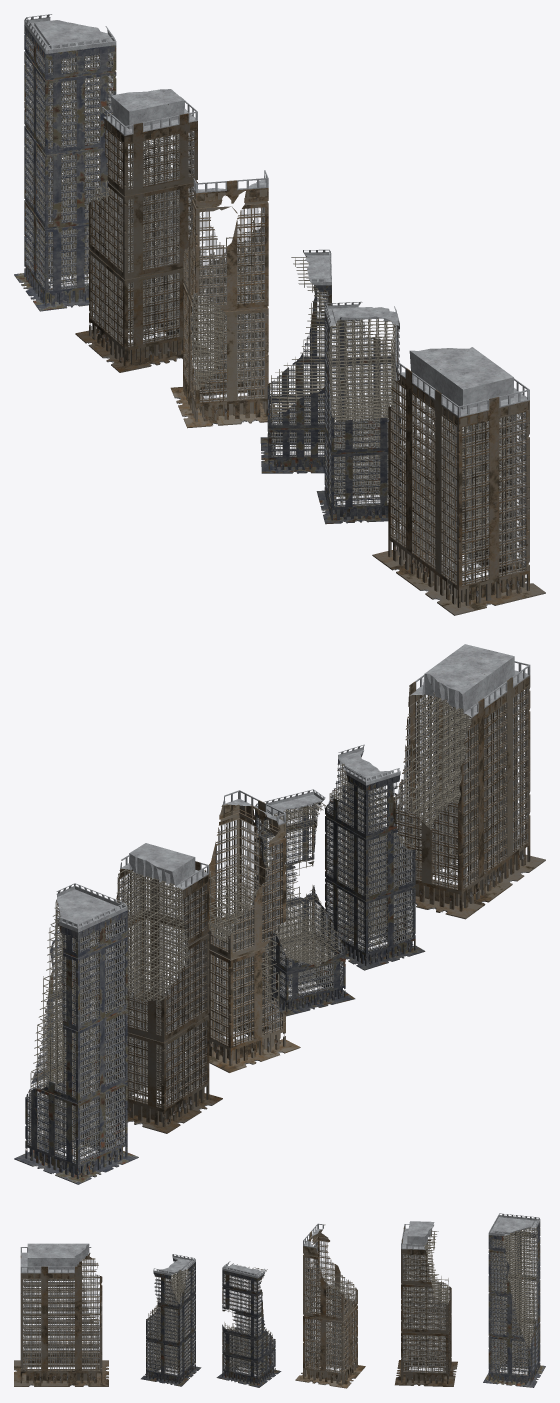
File: post-apocalyptic_buildings.glb
The picture shows the model from 3 angles, top to bottom: view 1: azimuth 30°, elevation 25°; view 2: azimuth 150°, elevation 25°; view 3: azimuth 270°, elevation 25°; orthographic projection. The views are drawn at different scales.
Visible parts, largest first — view 1: Building #1 outer_paint B#1_0 (×2), Building #5 outer_paint B#5_0 (×2), Building #6 outer_paint B#6_0 (×2), Building #4 outer_paint B#4_0 (×2), Building #1 outer_Metal_0 (×2), Building #5 outer_Metal_0 (×2), Building #2 inner_Metal inner_0, Building #2 outer_paint B#2_0 (×2), Building #6 outer_Metal_0 (×2), Building #4 inner_Metal inner_0, Building #6 inner_Metal inner_0, Building #3 outer_paint B#3_0 (×2) (+11 smaller); view 2: Building #1 outer_paint B#1_0 (×2), Building #6 outer_paint B#6_0 (×2), Building #5 outer_paint B#5_0 (×2), Building #4 outer_paint B#4_0 (×2), Building #2 outer_paint B#2_0 (×2), Building #1 outer_Metal_0, Building #6 outer_Metal_0 (×2), Building #5 inner_Metal inner_0, Building #6 inner_Metal inner_0, Building #1 inner_Metal inner_0, Building #5 outer_Metal_0 (×2), Building #2 outer_Metal_0 (×2) (+11 smaller); view 3: Building #1 outer_paint B#1_0 (×2), Building #4 outer_paint B#4_0 (×2), Building #5 outer_paint B#5_0 (×2), Building #6 outer_paint B#6_0 (×2), Building #1 outer_Metal_0 (×2), Building #6 inner_Metal inner_0, Building #3 outer_paint B#3_0 (×2), Building #2 outer_paint B#2_0 (×2), Building #5 inner_Metal inner_0, Building #1 inner_Metal inner_0, Building #6 outer_Metal_0 (×2), Building #5 outer_Metal_0 (×2) (+12 smaller).
Part boxes in pixels (x1=…): Building #1 outer_paint B#1_0 (×2): x1=372, y1=368, x2=545, y2=615; Building #5 outer_paint B#5_0 (×2): x1=75, y1=113, x2=206, y2=372; Building #6 outer_paint B#6_0 (×2): x1=14, y1=25, x2=116, y2=311; Building #4 outer_paint B#4_0 (×2): x1=170, y1=180, x2=278, y2=428; Building #1 outer_Metal_0 (×2): x1=391, y1=347, x2=529, y2=585; Building #5 outer_Metal_0 (×2): x1=91, y1=89, x2=197, y2=346; Building #2 inner_Metal inner_0: x1=328, y1=318, x2=395, y2=506; Building #2 outer_paint B#2_0 (×2): x1=316, y1=310, x2=403, y2=524; Building #6 outer_Metal_0 (×2): x1=24, y1=14, x2=116, y2=290; Building #4 inner_Metal inner_0: x1=190, y1=210, x2=262, y2=401; Building #6 inner_Metal inner_0: x1=29, y1=39, x2=111, y2=290; Building #3 outer_paint B#3_0 (×2): x1=260, y1=255, x2=337, y2=473; Building #1 outer_paint B#1_0 (×2): x1=392, y1=675, x2=545, y2=919; Building #6 outer_paint B#6_0 (×2): x1=14, y1=902, x2=138, y2=1184; Building #5 outer_paint B#5_0 (×2): x1=91, y1=859, x2=222, y2=1133; Building #4 outer_paint B#4_0 (×2): x1=184, y1=800, x2=300, y2=1072; Building #2 outer_paint B#2_0 (×2): x1=316, y1=752, x2=425, y2=970; Building #1 outer_Metal_0: x1=395, y1=644, x2=527, y2=889; Building #6 outer_Metal_0 (×2): x1=28, y1=883, x2=127, y2=1163; Building #5 inner_Metal inner_0: x1=107, y1=869, x2=202, y2=1102; Building #6 inner_Metal inner_0: x1=30, y1=900, x2=122, y2=1159; Building #1 inner_Metal inner_0: x1=399, y1=691, x2=522, y2=888; Building #5 outer_Metal_0 (×2): x1=106, y1=843, x2=209, y2=1107; Building #2 outer_Metal_0 (×2): x1=327, y1=744, x2=413, y2=952; Building #1 outer_paint B#1_0 (×2): x1=14, y1=1253, x2=108, y2=1386; Building #4 outer_paint B#4_0 (×2): x1=295, y1=1224, x2=365, y2=1388; Building #5 outer_paint B#5_0 (×2): x1=395, y1=1226, x2=457, y2=1386; Building #6 outer_paint B#6_0 (×2): x1=483, y1=1222, x2=545, y2=1387; Building #1 outer_Metal_0 (×2): x1=20, y1=1243, x2=101, y2=1370; Building #6 inner_Metal inner_0: x1=491, y1=1227, x2=537, y2=1375; Building #3 outer_paint B#3_0 (×2): x1=216, y1=1270, x2=281, y2=1387; Building #2 outer_paint B#2_0 (×2): x1=141, y1=1257, x2=201, y2=1386; Building #5 inner_Metal inner_0: x1=404, y1=1231, x2=448, y2=1372; Building #1 inner_Metal inner_0: x1=24, y1=1259, x2=98, y2=1370; Building #6 outer_Metal_0 (×2): x1=488, y1=1213, x2=540, y2=1375; Building #5 outer_Metal_0 (×2): x1=401, y1=1221, x2=450, y2=1372.
Size of the model in its own units: 8.33 by 19.65 by 62.81.
11 materials, 10 textured.
